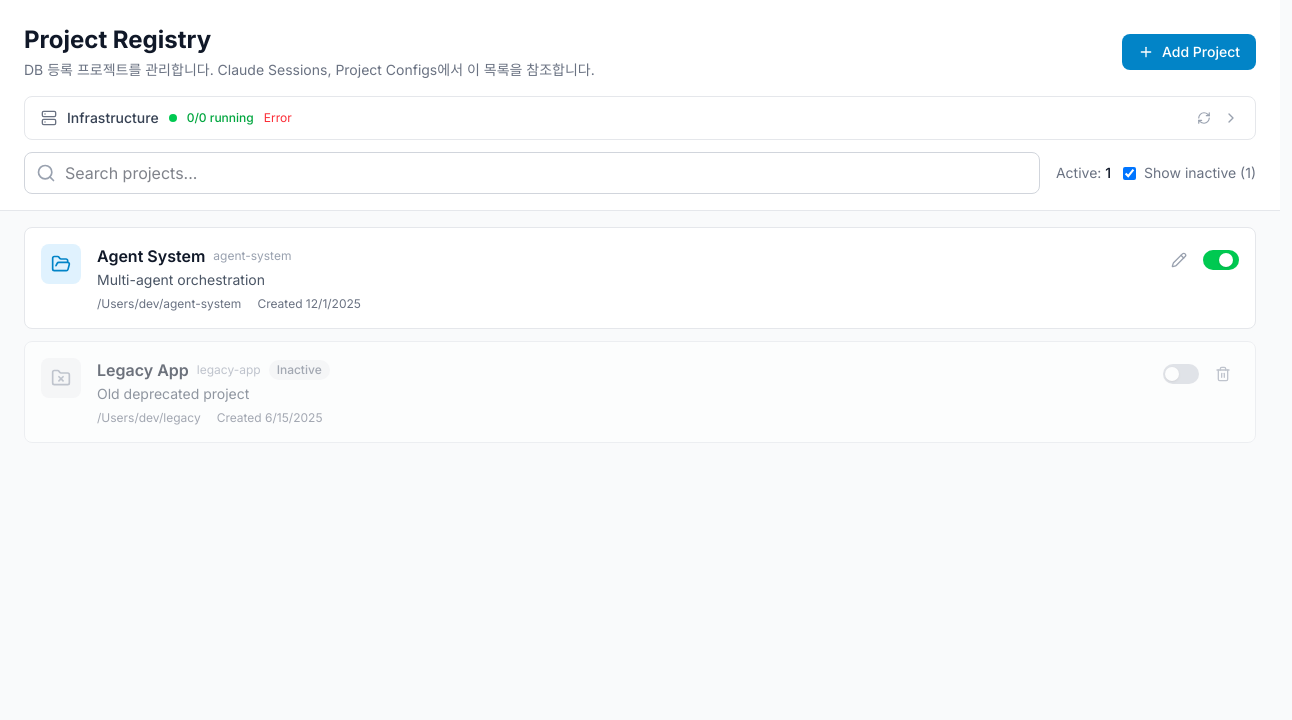
Test: ProjectManagementPage › edit project flow › shows Save and Cancel buttons in edit mode
What coordinates should you click on to do the following:
click the button titled "Edit"
I would click on:
 (1179, 260)
Its box is [1163,244,1195,276].
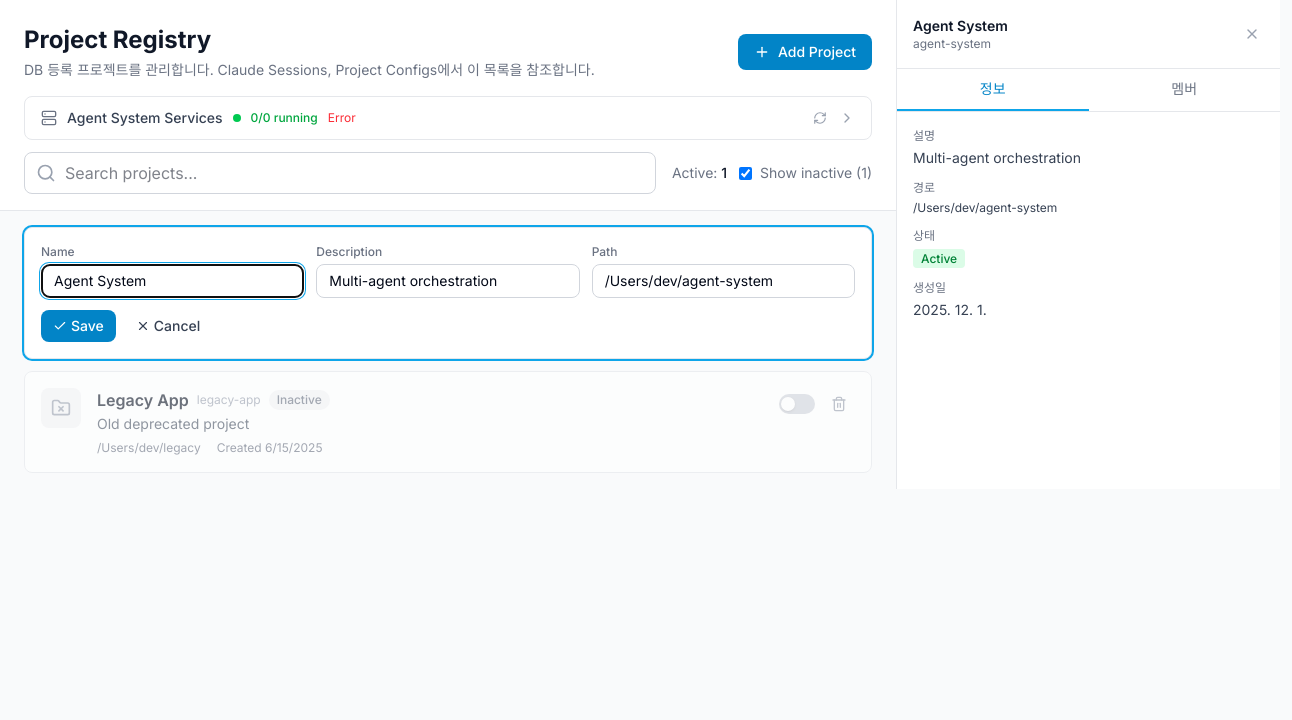
Now the button "Save" is shown, box [41,310,116,342]
Now the button "Cancel" is shown, box [124,310,212,342]
